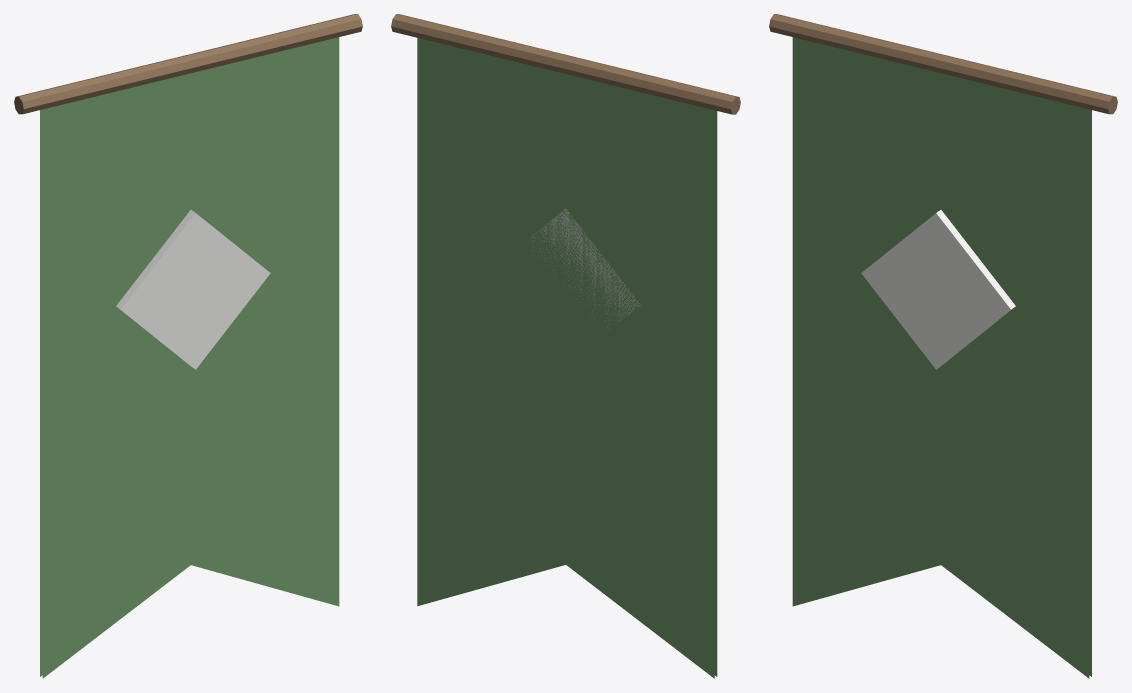
Rendered from banner_green.glb.
3 views of the same model, side by side, from view 1: azimuth 30°, elevation 25°; view 2: azimuth 150°, elevation 25°; view 3: azimuth 330°, elevation 25° (orthographic).
Parts seen in each view (by area): view 1: banner_green; view 2: banner_green; view 3: banner_green.
Boxes of the visible parts, <box> form: banner_green: <box>14,14,362,678</box>; banner_green: <box>391,14,740,678</box>; banner_green: <box>769,14,1117,678</box>.
Size of the model in its own units: 1.6 by 2.64 by 0.0999.
